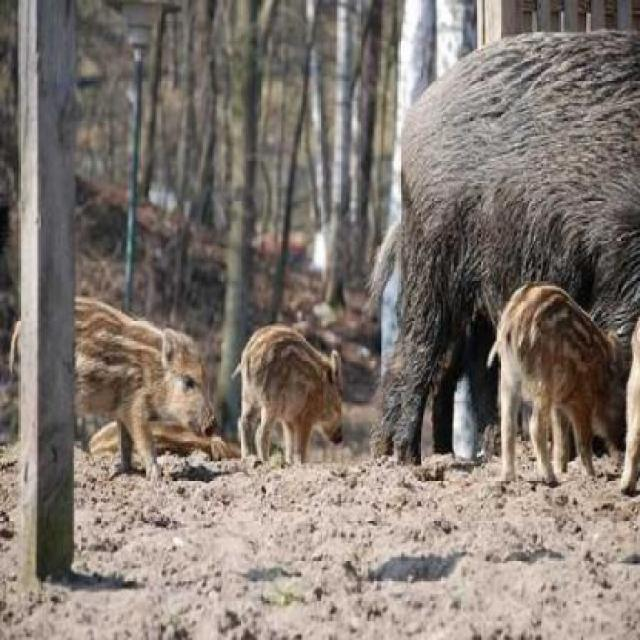pig: (370, 0, 638, 429), (0, 297, 235, 460), (500, 266, 638, 511), (206, 280, 374, 468)
